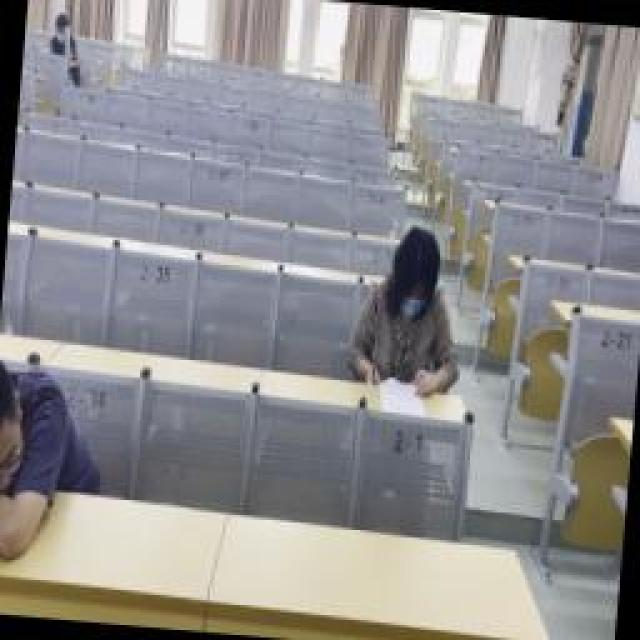sleep: (0, 357, 108, 565)
study: (348, 225, 468, 397), (45, 7, 80, 55)
